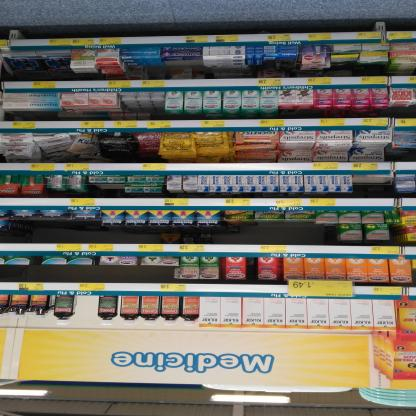empty_space: (352, 173, 394, 197), (76, 295, 95, 322)
